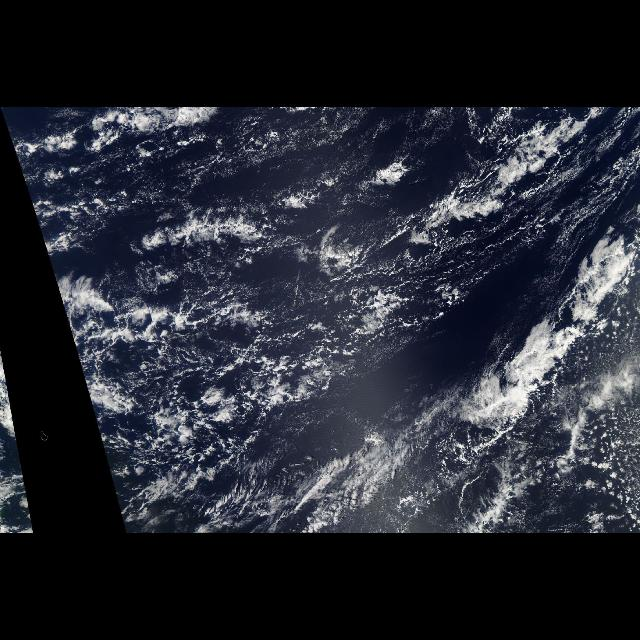Fish: (443, 200, 639, 526)
Gravel: (54, 132, 483, 502), (553, 380, 639, 526)
